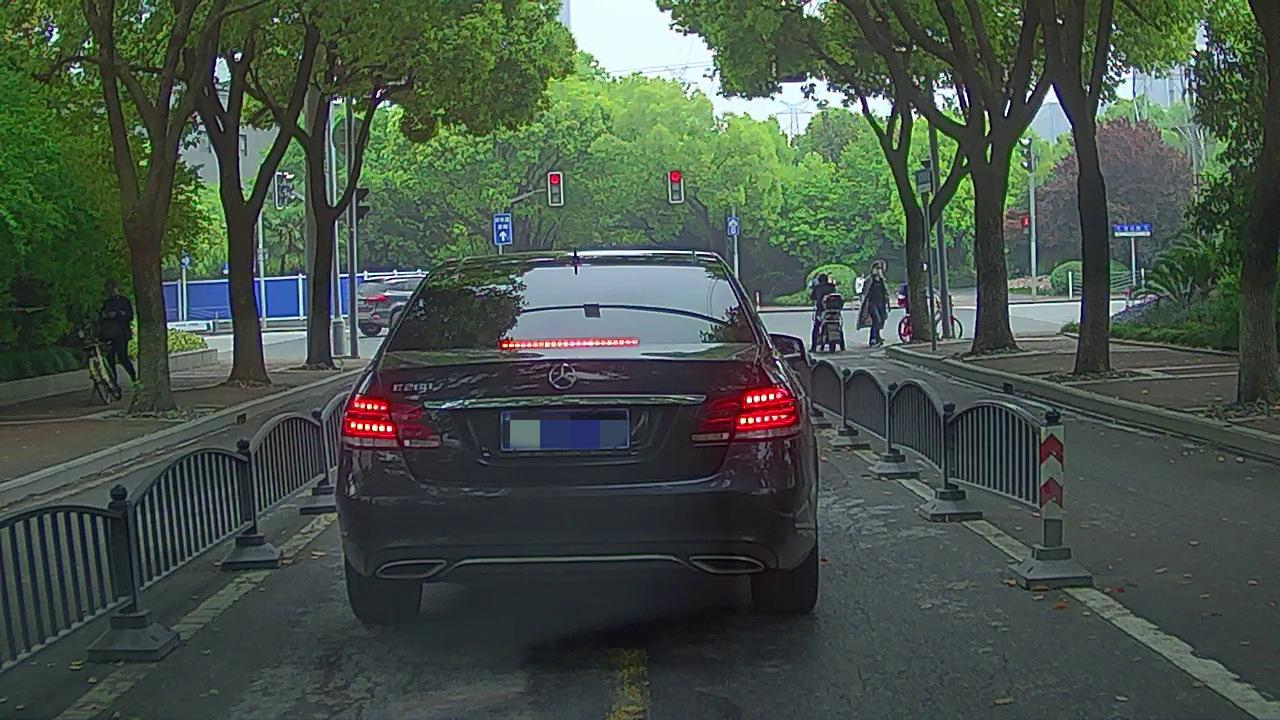traffic_light: (670, 171, 682, 201), (548, 175, 560, 203)
